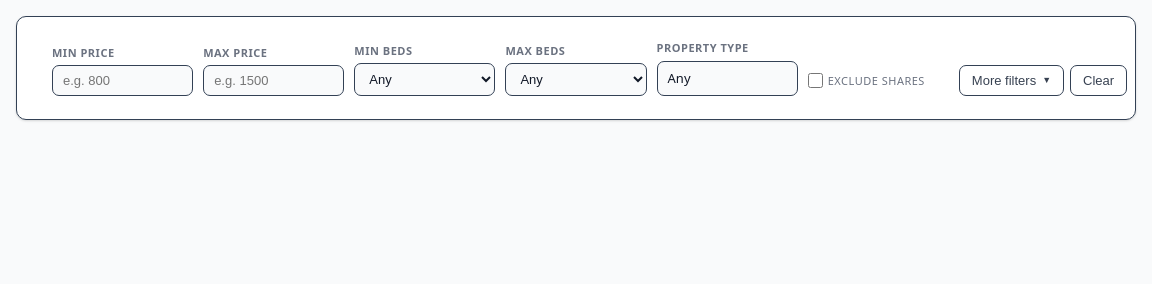
Test: FilterToolbar — primary row › More filters button opens extra row
expect the text "Min baths" is not shown: met
Click the button "More filters ▼": click(1011, 80) [959,65,1064,96]
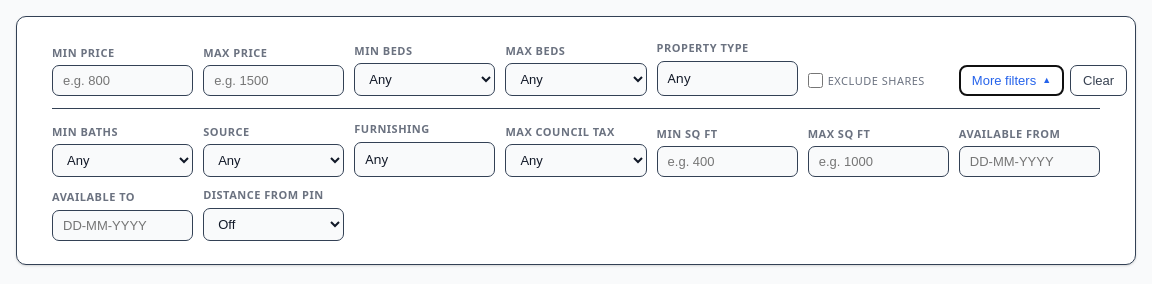
expect the text "Min baths" is shown: met, box [52,124,118,138]
